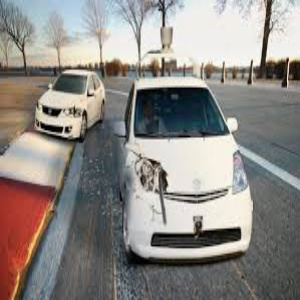head_lights: (133, 156, 169, 196)
